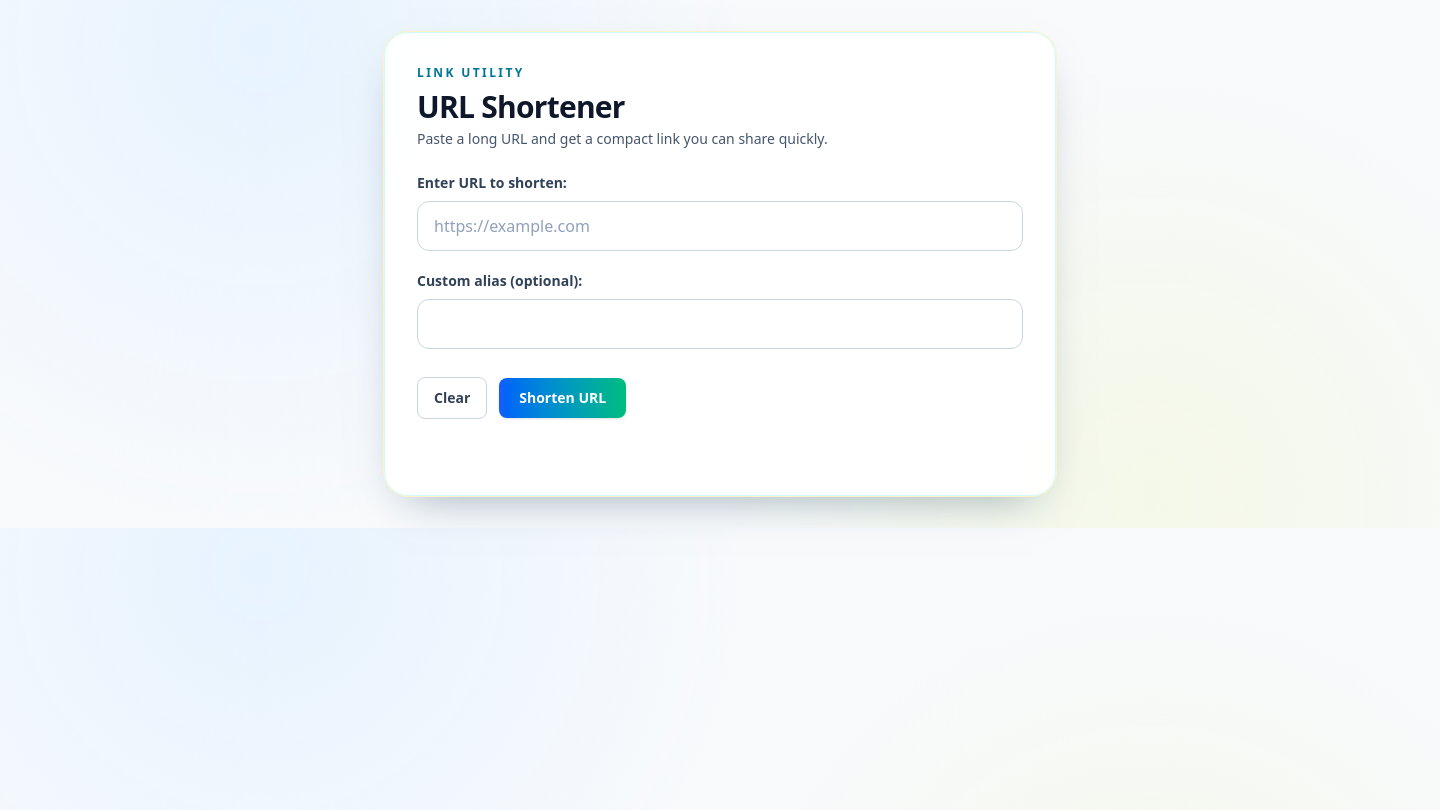
Scenario: URLShortner unit › shows ErrorModal when ApiError is thrown and closes it
Type "https://example.com/path" into the field labelled "Enter URL to shorten:". click: (720,226)
box: [417,201,1023,251]
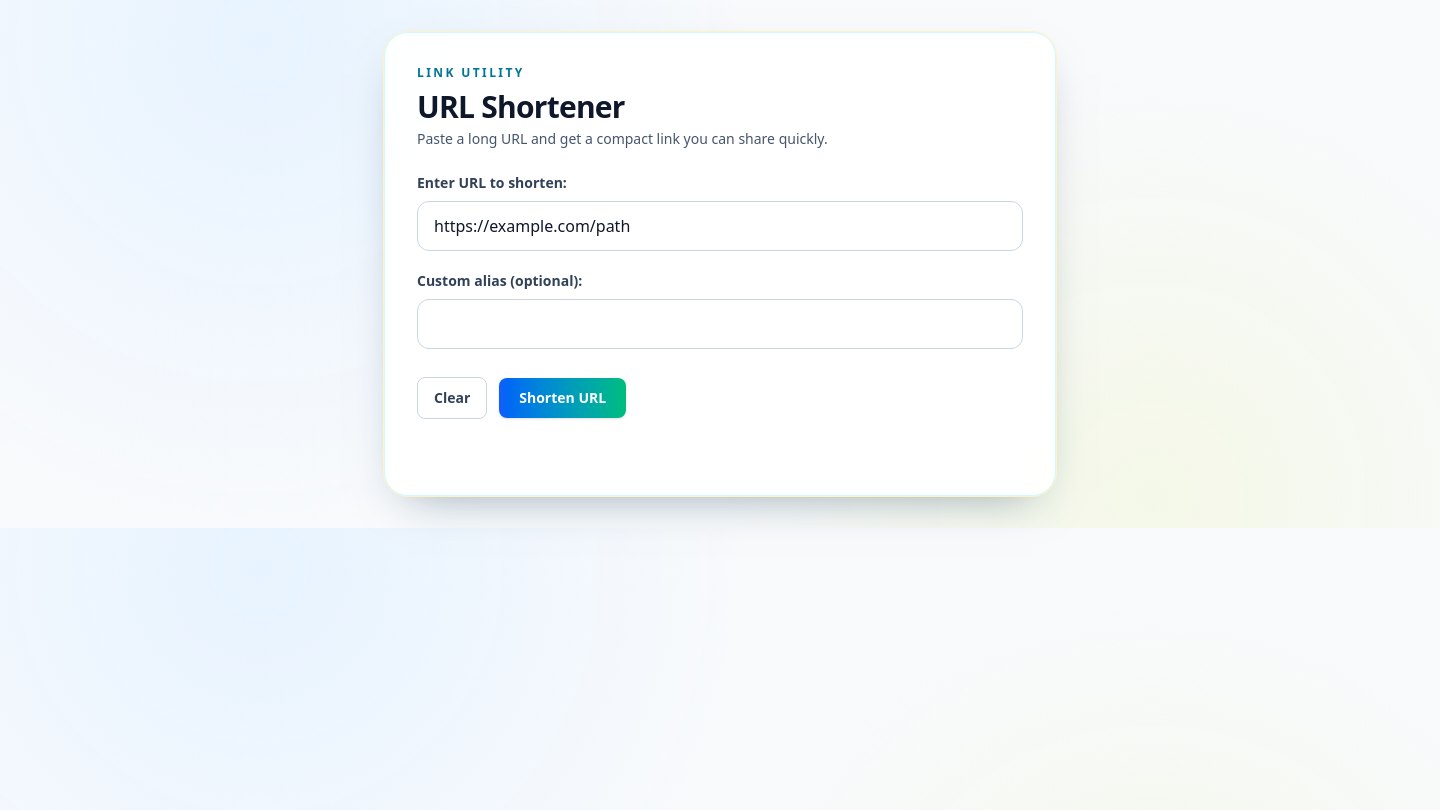
Click the button "Shorten URL". click: (563,398)
box: [499,378,626,418]
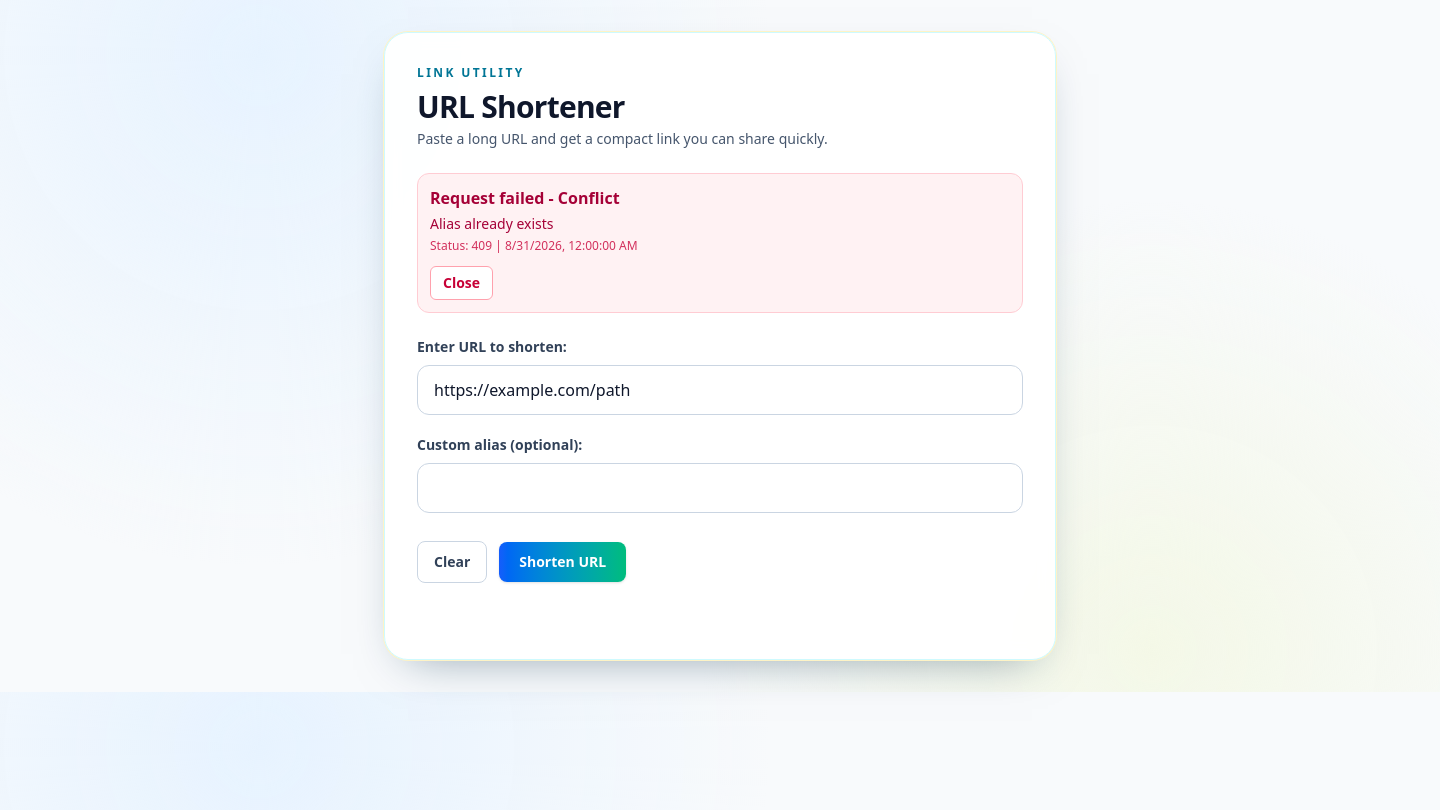
Expected: the message shows "Alias already exists", [430,214,554,233]
Click the button "Close". click: (462,283)
box: [430,266,493,300]
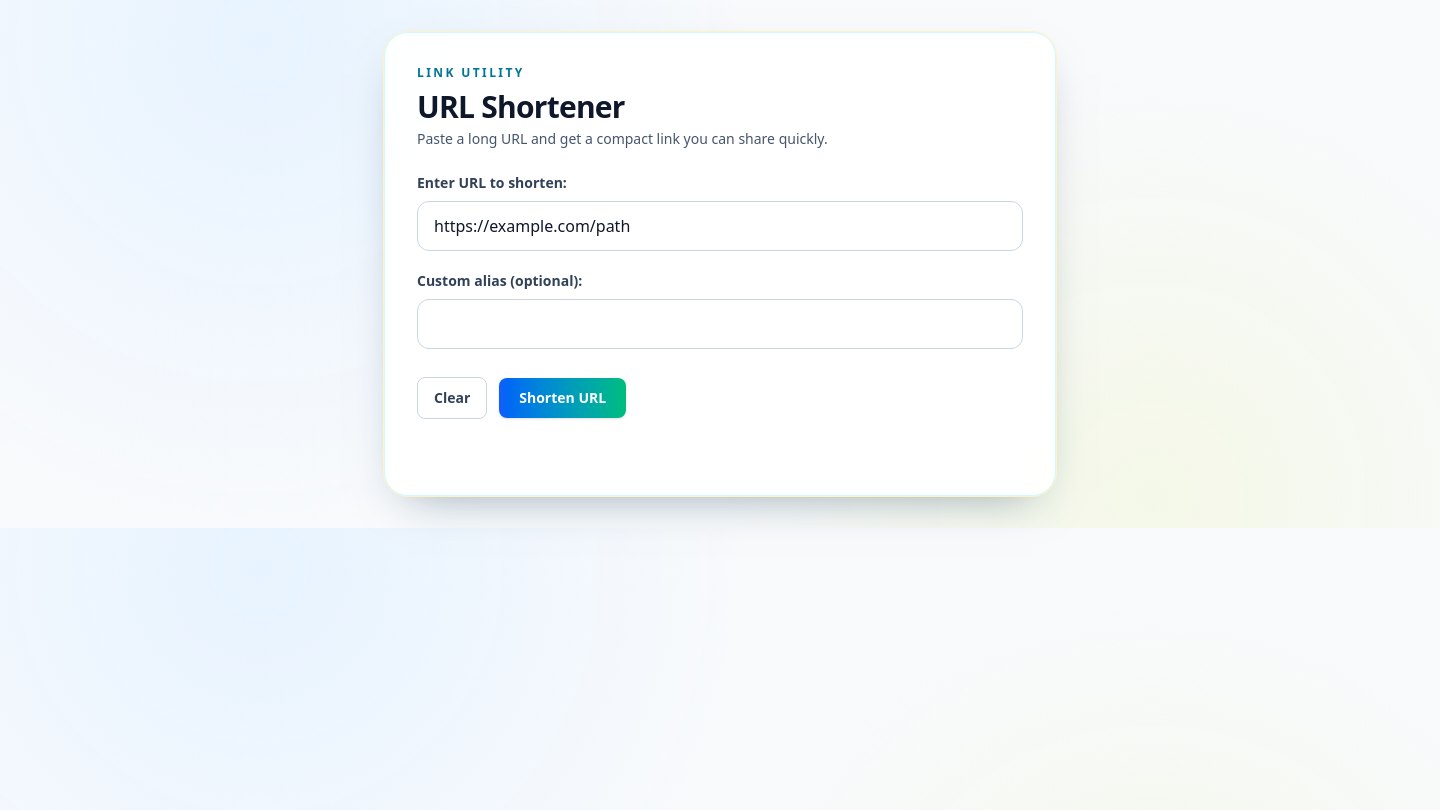
Expected: the message is gone
